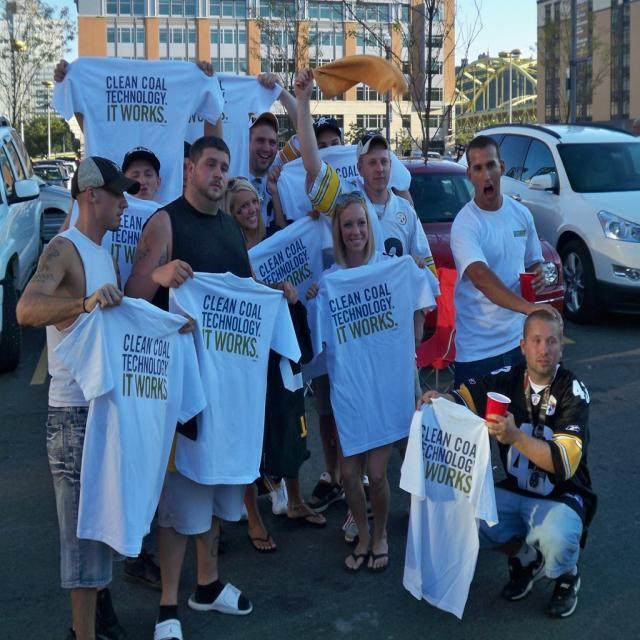Sport-Utility-Vehicle: (499, 119, 640, 326)
